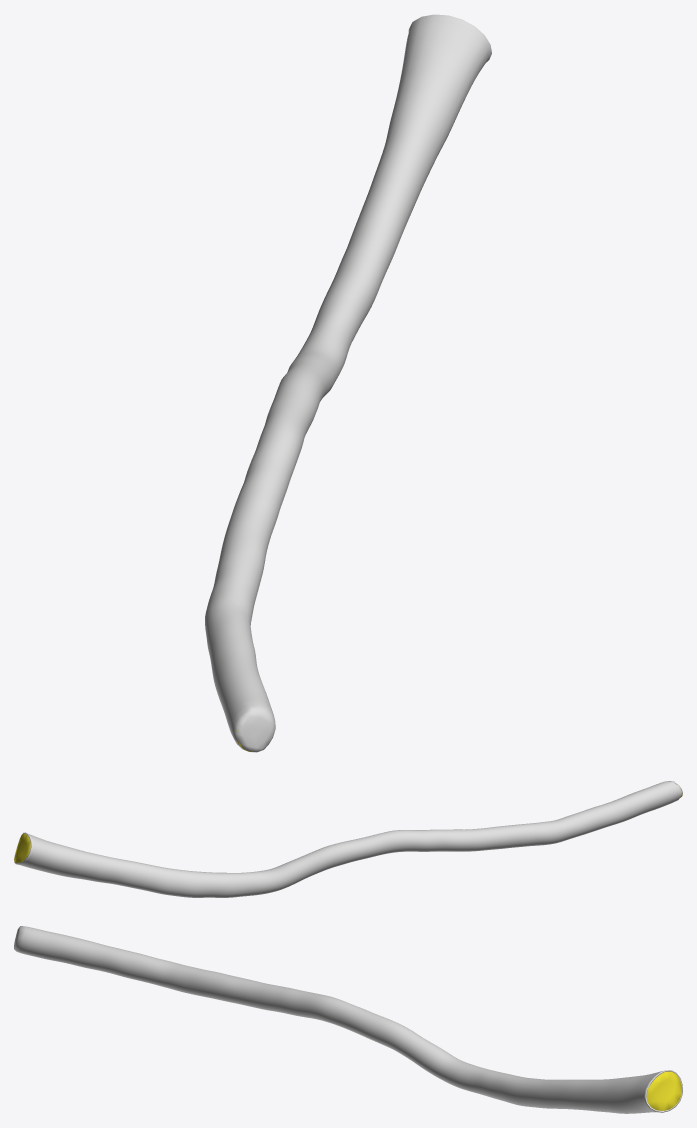
File: VH_M_Nerves_Eye_R.fbx
3 renders of one model, top to bottom at view 1: azimuth 30°, elevation 25°; view 2: azimuth 150°, elevation 25°; view 3: azimuth 270°, elevation 25°, orthographic. The views are drawn at different scales.
Visible parts, largest first — view 1: VH_M_dura_mater_right; view 2: VH_M_dura_mater_right, VH_M_right_optic_nerve; view 3: VH_M_dura_mater_right, VH_M_right_optic_nerve.
Boxes of the visible parts, box(x1,y1,x2,y2) form: VH_M_dura_mater_right: box(205, 14, 491, 752); VH_M_dura_mater_right: box(14, 781, 682, 897); VH_M_right_optic_nerve: box(14, 788, 682, 862); VH_M_dura_mater_right: box(14, 926, 682, 1113); VH_M_right_optic_nerve: box(646, 1071, 681, 1110).
Size of the model in its own units: 3.37 by 0.6928 by 4.21.
